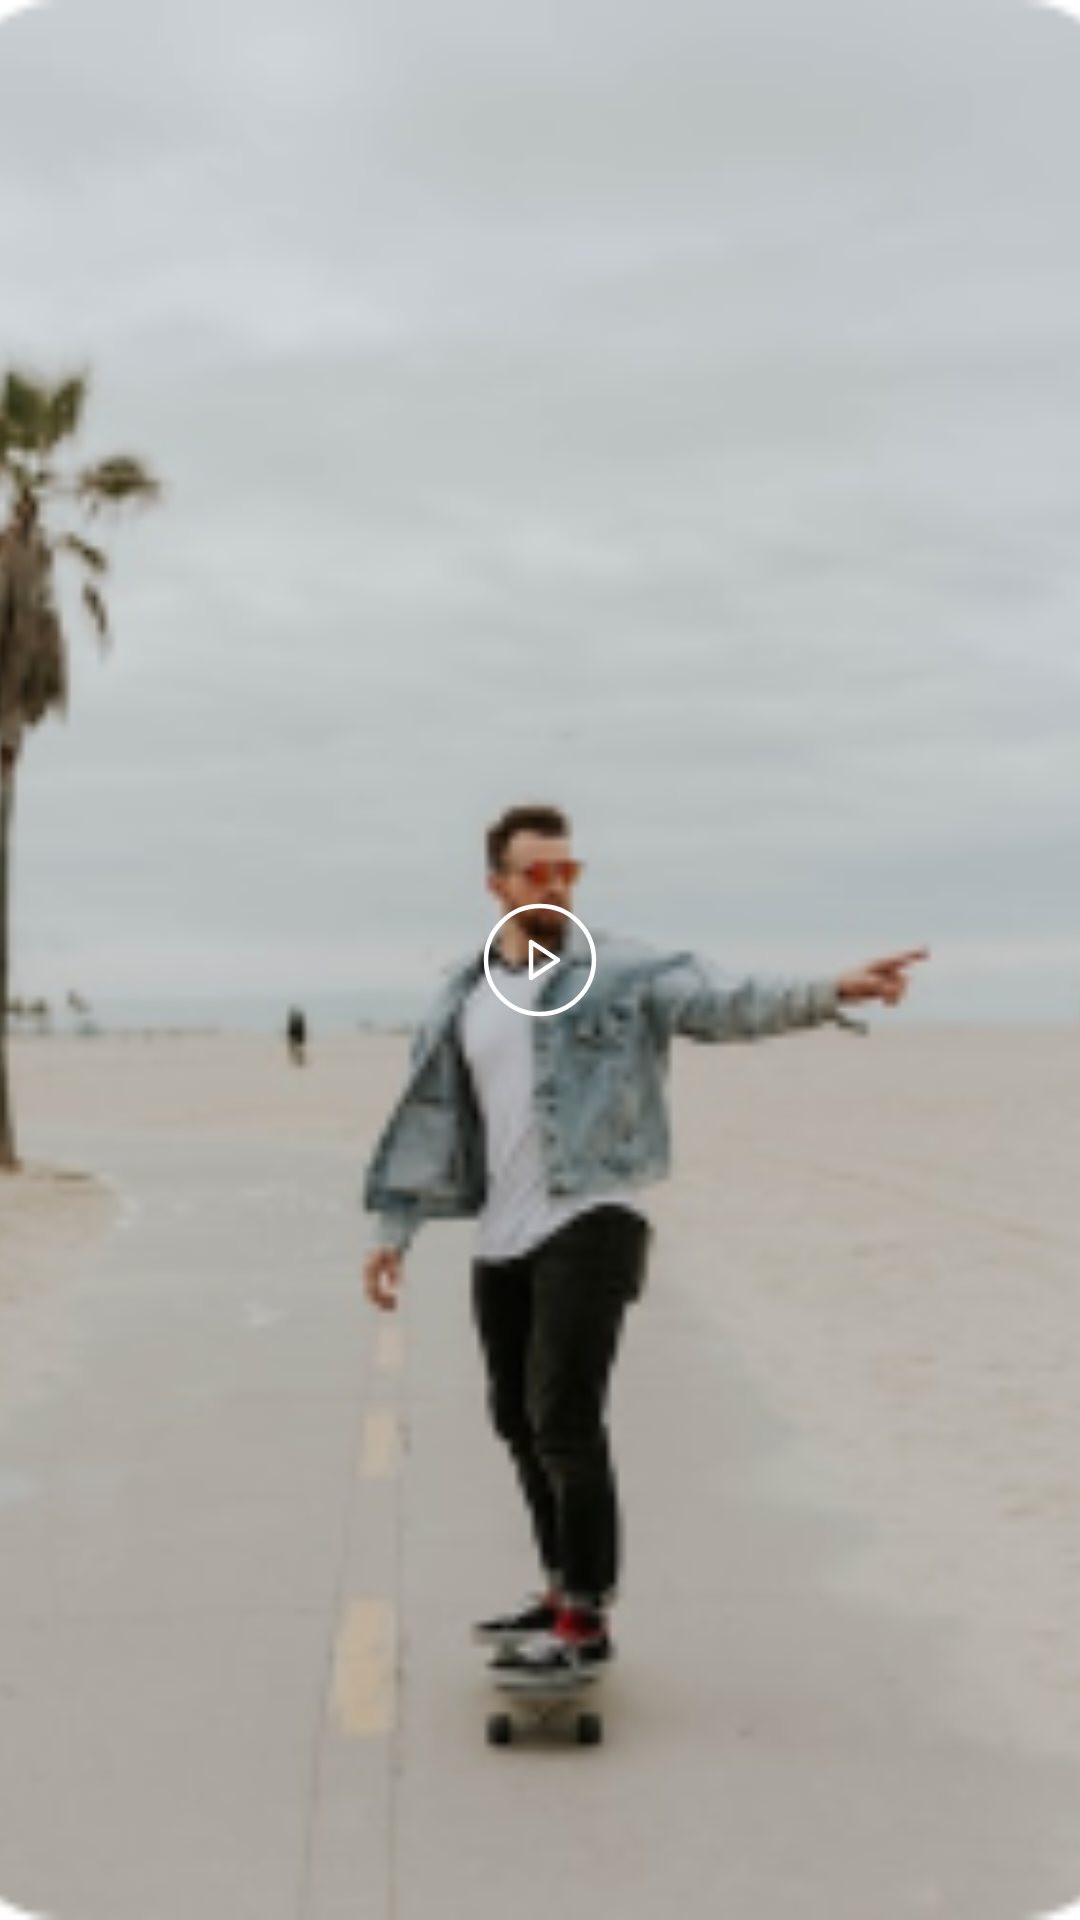

Named icons in this screenshot (1080x1920) and their centers, [x,y]:
play circle: [540,960]
